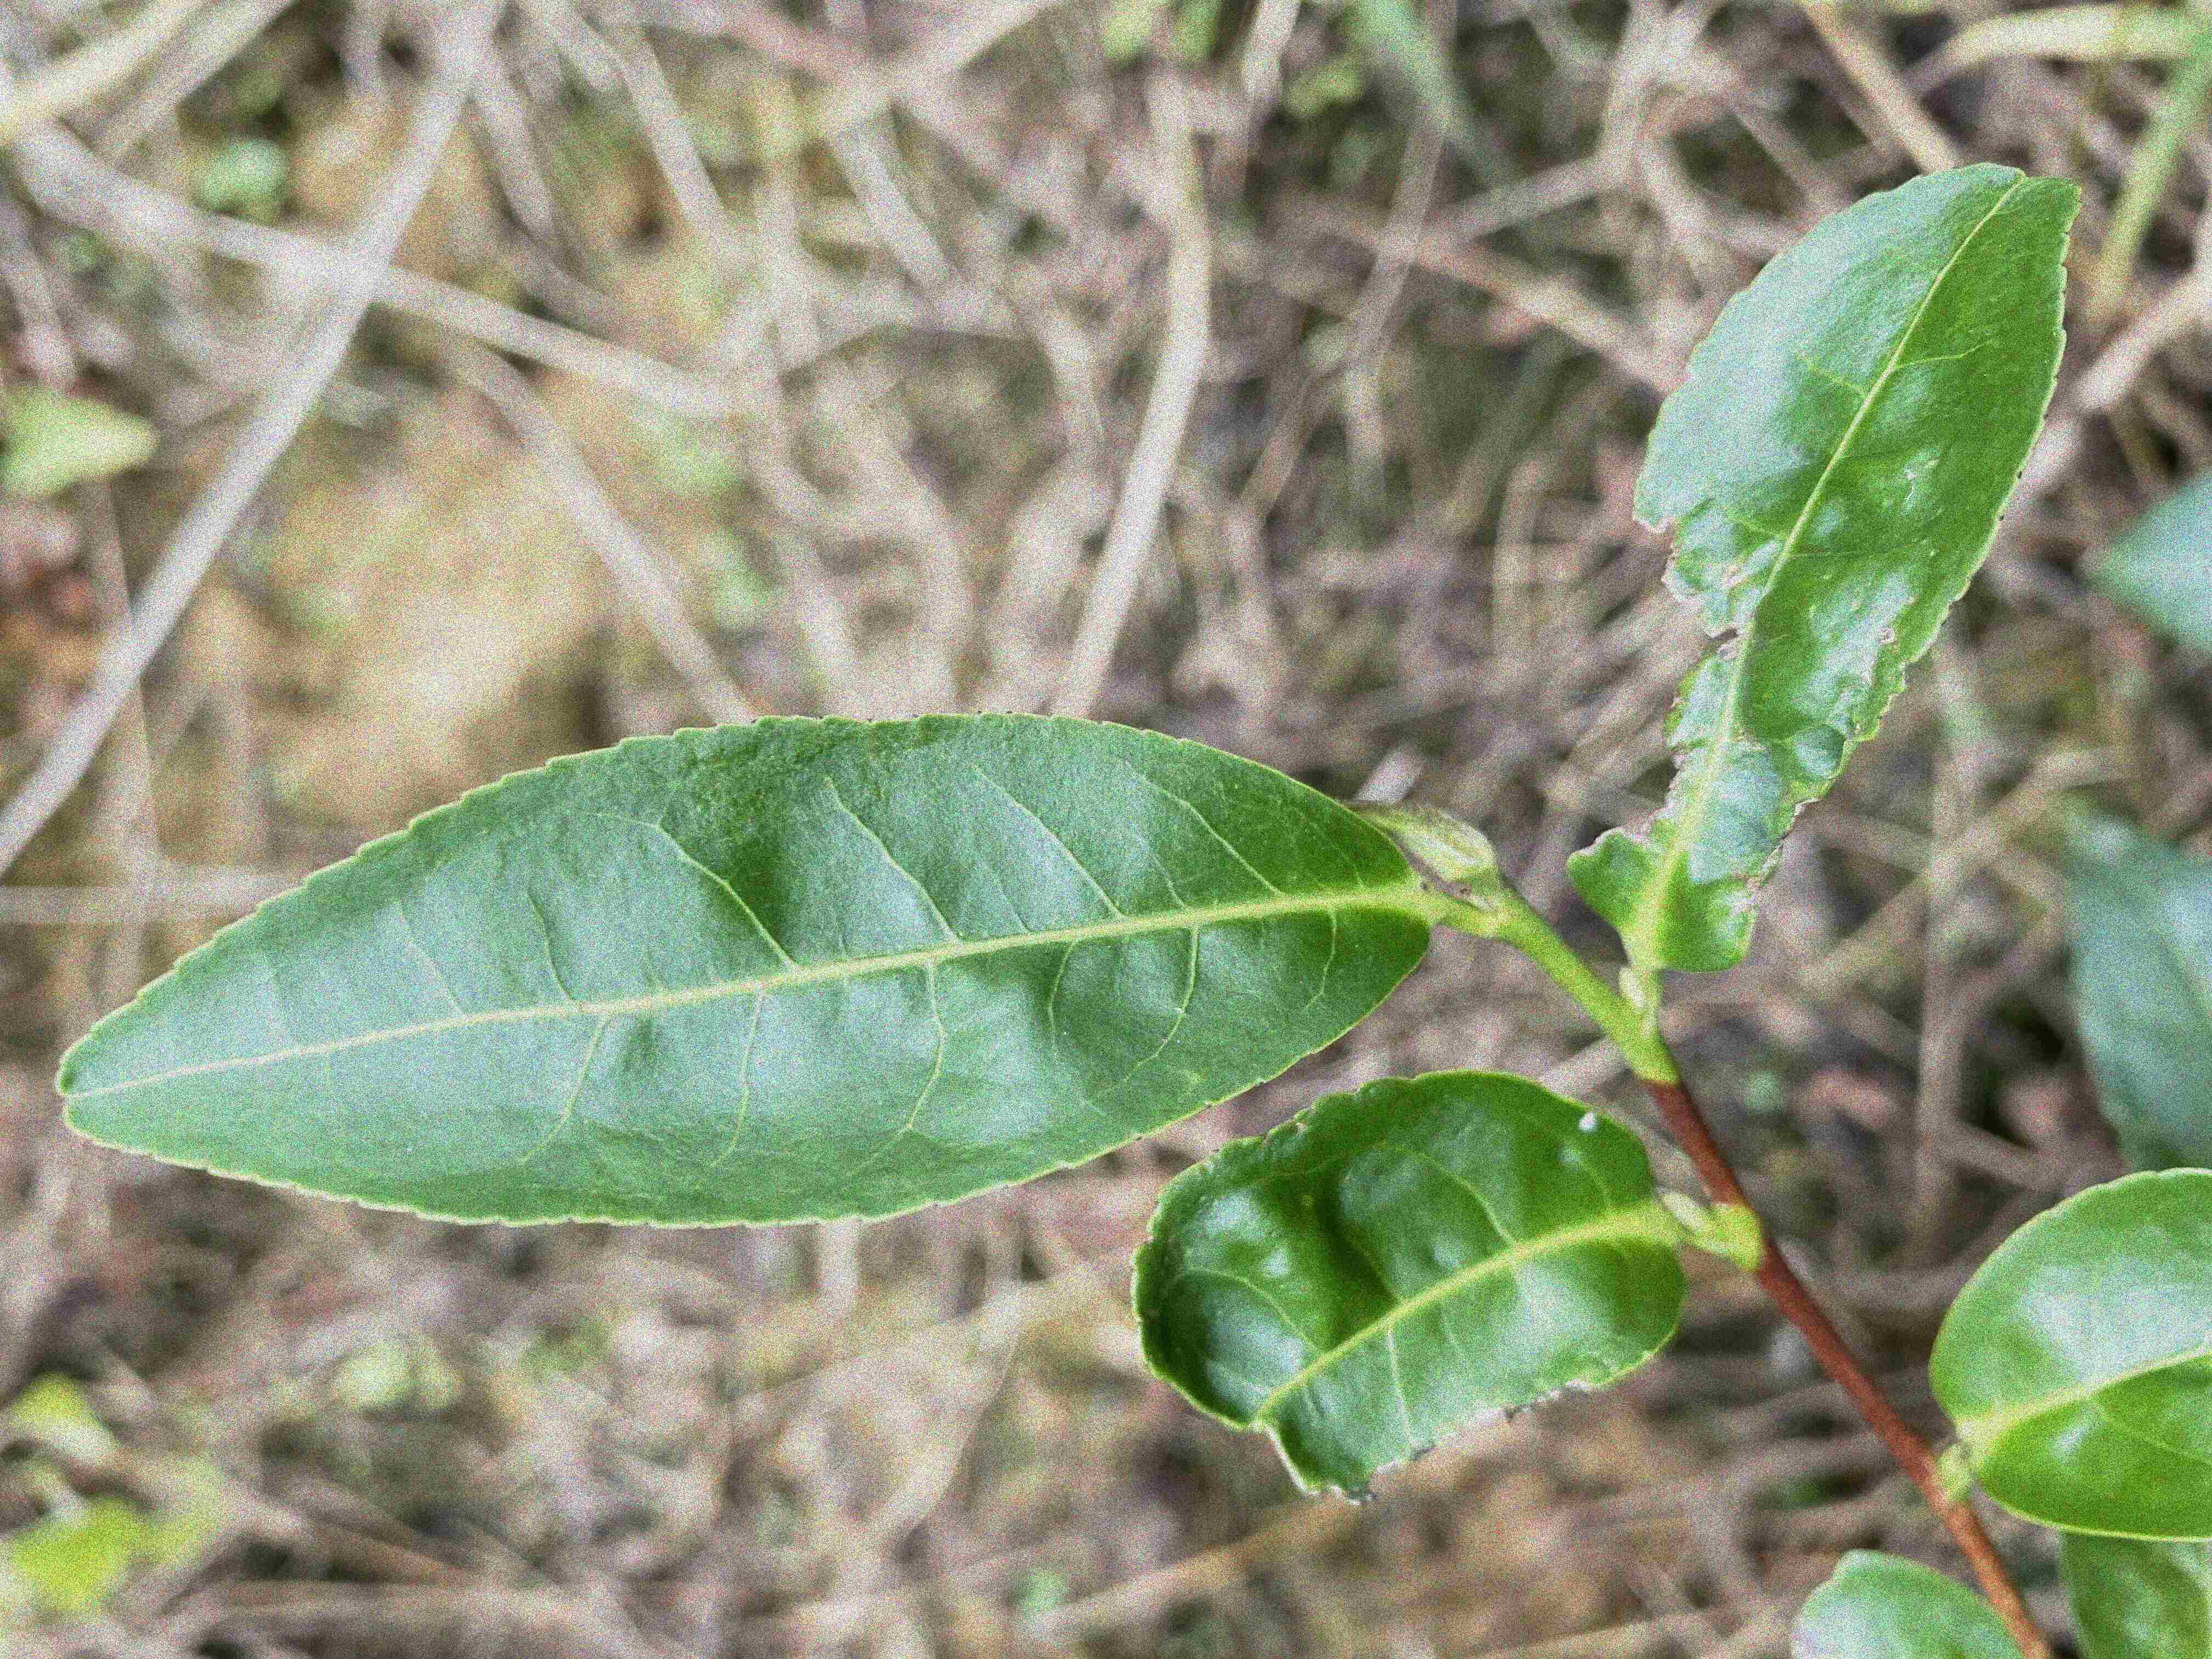chihuo_high: (1562, 164, 2083, 972), (1127, 1066, 1684, 1511)
healthy: (54, 711, 1439, 1236)
